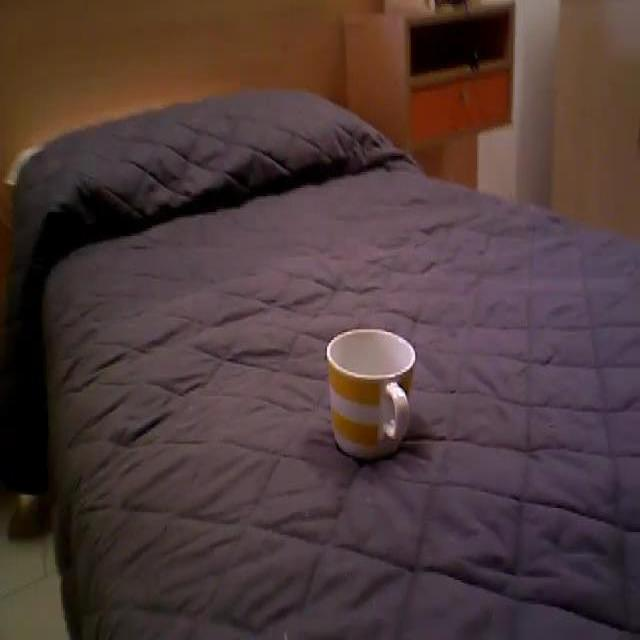cup: (325, 320, 428, 468)
